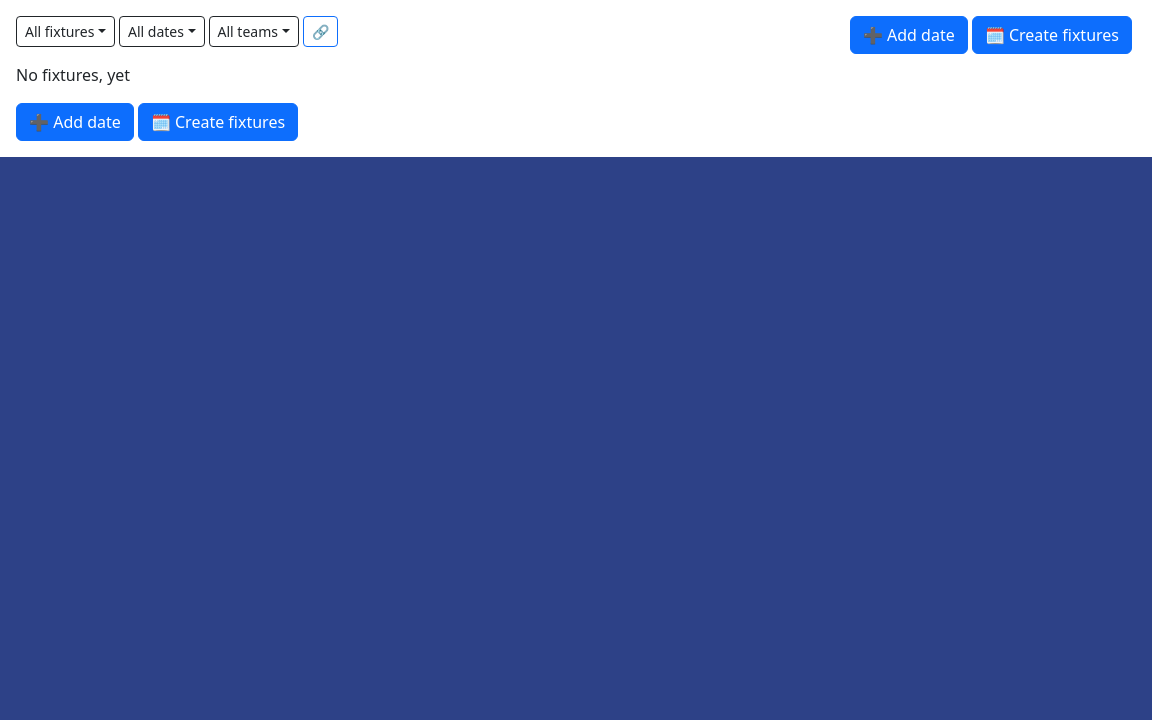
Scenario: DivisionFixtures › when logged in › can open create new fixtures dialog
The width and height of the screenshot is (1152, 720).
Click the 1st button "🗓️ Create fixtures".
click(1052, 35)  # box x1=972 y1=16 x2=1132 y2=54
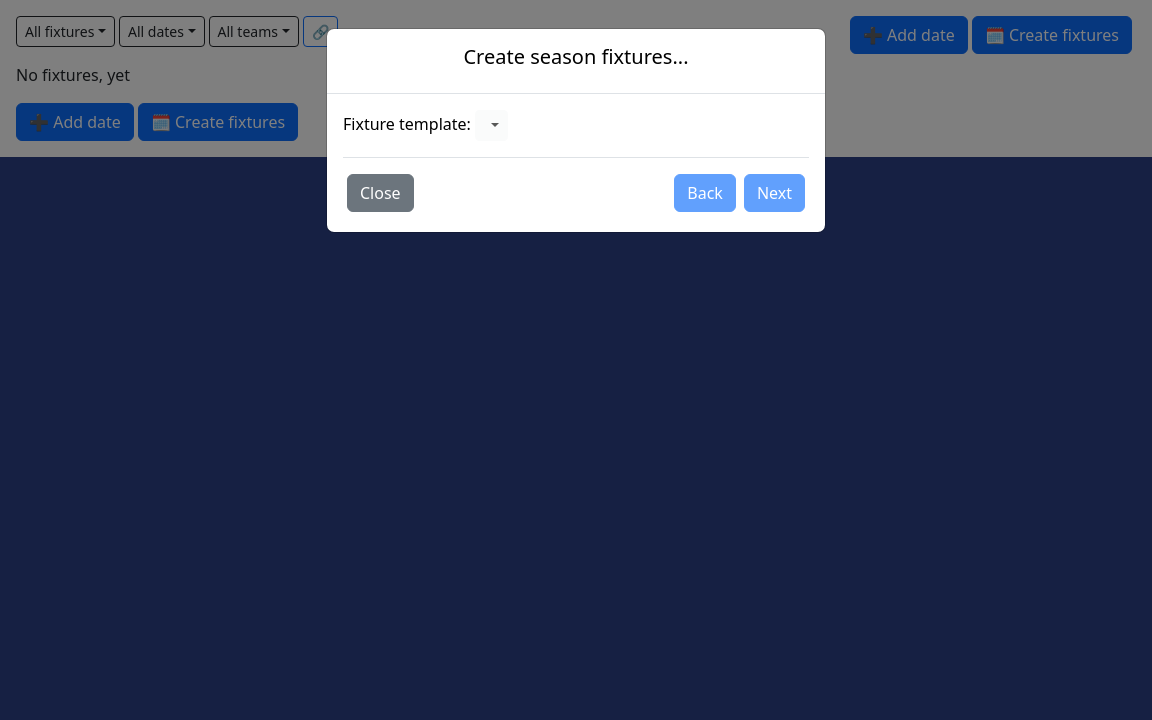
expect the element with class "modal-dialog" is shown: met, box x1=326 y1=28 x2=826 y2=233
expect the element with class "modal-dialog" shows "Create season fixtures...": met, box x1=464 y1=43 x2=688 y2=70
